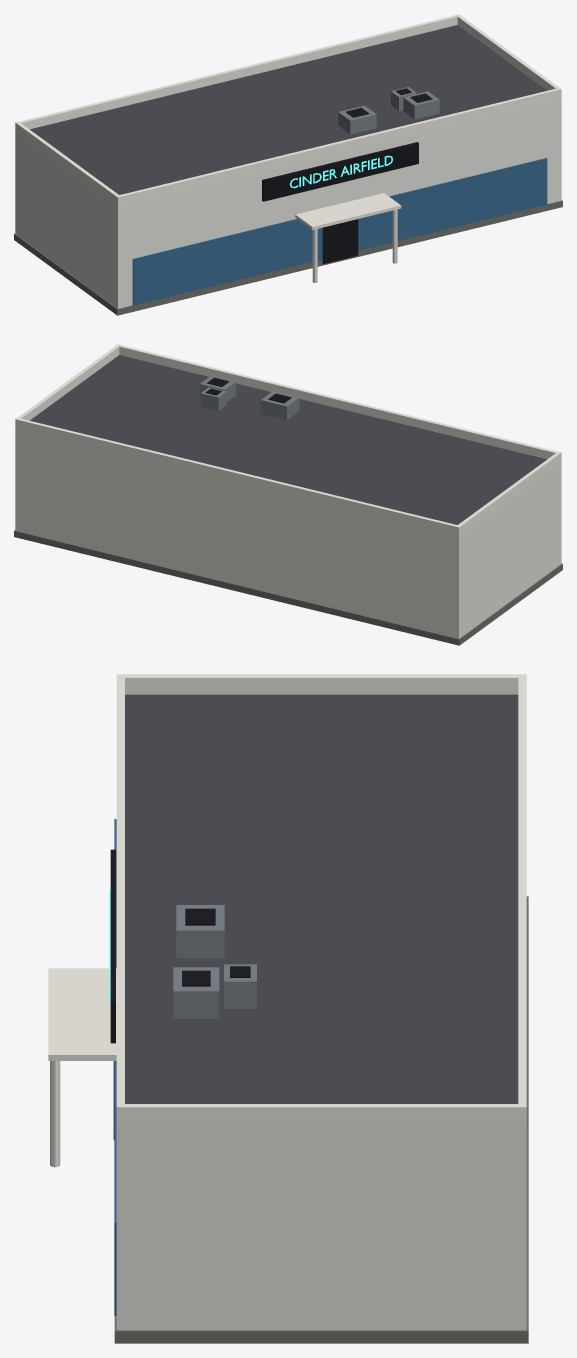
The model's file is terminal.glb.
3 renders of one model, top to bottom at view 1: azimuth 30°, elevation 25°; view 2: azimuth 150°, elevation 25°; view 3: azimuth 270°, elevation 25°, orthographic. The views are drawn at different scales.
Visible parts, largest first — view 1: terminal_Body, terminal_SignBoard, terminal_Sign; view 2: terminal_Body; view 3: terminal_Body, terminal_SignBoard.
Boxes of the visible parts, bbox=[...] form: terminal_Body: bbox=[14, 14, 562, 315]; terminal_SignBoard: bbox=[262, 142, 418, 201]; terminal_Sign: bbox=[289, 155, 392, 188]; terminal_Body: bbox=[14, 344, 562, 645]; terminal_Body: bbox=[48, 674, 528, 1343]; terminal_SignBoard: bbox=[110, 849, 115, 1043].
Bounding box in the file's own units: 30.12 × 7.99 × 14.06.
